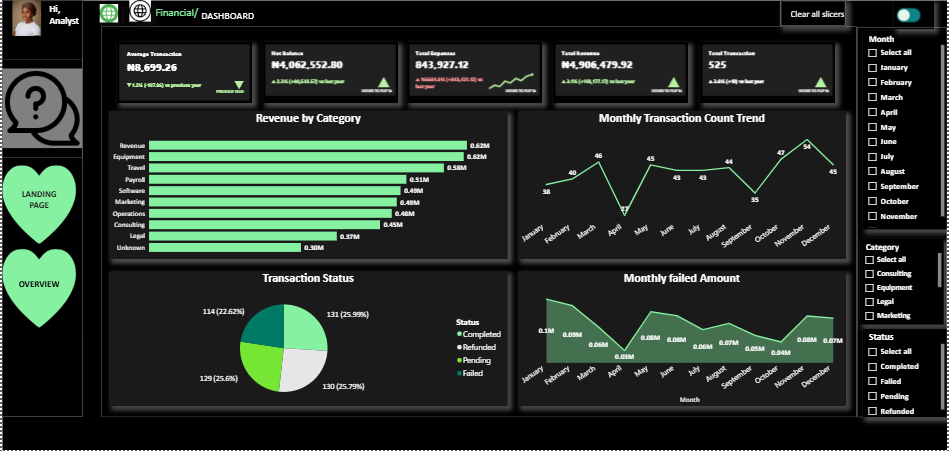

What the dashboard file says about the page in this screenshot:
{"tool":"powerbi","page":{"name":"OVERVIEW","canvas":[2100,1000],"ordinal":1},"visuals":[{"type":"shape","box":[0,0,2797.8,1486.7],"z":0},{"type":"shape","box":[220.4,57.1,1679.6,869.4],"z":1000},{"type":"shape","box":[0,0,179.6,926.5],"z":2000},{"type":"shape","box":[1900,59.2,200,867.3],"z":3000},{"type":"htmlContent443BE3AD55E043BF878BED274D3A6855","title":"Dark HTML Content","fields":{"content":["Html measures.HTML Average Transaction Card"]},"box":[255.1,93.9,300,134.7],"z":4000},{"type":"htmlContent443BE3AD55E043BF878BED274D3A6855","title":"Dark HTML Content","fields":{"content":["Html measures.HTML Net Balance Card"]},"box":[579.6,93.9,300,134.7],"z":5000},{"type":"htmlContent443BE3AD55E043BF878BED274D3A6855","title":"Dark HTML Content","fields":{"content":["Html measures.HTML Total Expenses Card"]},"box":[900,93.9,300,134.7],"z":6000},{"type":"htmlContent443BE3AD55E043BF878BED274D3A6855","title":"Dark HTML Content","fields":{"content":["Html measures.HTML Total Revenue Card"]},"box":[1224.5,93.9,300,134.7],"z":7000},{"type":"htmlContent443BE3AD55E043BF878BED274D3A6855","title":"Dark HTML Content","fields":{"content":["Html measures.HTML Total Transaction Card"]},"box":[1551,93.9,300,134.7],"z":8000},{"type":"barChart","title":"Revenue by Category ","fields":{"Category":["Financial.Category "],"Y":["Measure overview.Total Revenue"]},"box":[236.7,246.9,885.7,328.6],"z":9000},{"type":"lineChart","title":"Monthly Transaction Count Trend","fields":{"Category":["Date Table.Month"],"Y":["Measure overview.Total Transaction"]},"box":[1146.9,246.9,728.6,328.6],"z":10000},{"type":"pieChart","title":"Transaction Status","fields":{"Category":["Financial.Status"],"Y":["Measure overview.Total Transaction"]},"box":[236.7,602,885.7,300],"z":11000},{"type":"textbox","title":"Financial/","box":[334.7,14.3,114.3,28.6],"z":12000},{"type":"image","box":[210.2,8.2,53.1,40.8],"z":13000},{"type":"image","box":[280.8,0,53.8,48.1],"z":14000},{"type":"actionButton","title":"Dark Button","box":[1728.6,0,146.9,59.2],"z":15000},{"type":"textbox","title":"DASHBOARD","box":[438.8,20.4,140.8,28.6],"z":16000},{"type":"image","box":[0,0,110.2,79.6],"z":17000},{"type":"textbox","title":"Hi, Analyst","box":[100,6.1,79.6,57.1],"z":18000},{"type":"stackedAreaChart","title":"Monthly failed Amount","fields":{"Category":["Date Table.Month"],"Y":["Measure overview.Failed Amount"]},"box":[1146.9,602,728.6,300],"z":19000},{"type":"slicer","title":"Dark Slicer","fields":{"Values":["Date Table.Month"]},"box":[1914.3,69.4,185.7,440.8],"z":20000},{"type":"slicer","title":"Dark Slicer","fields":{"Values":["Financial.Category "]},"box":[1906.1,530.6,185.7,189.8],"z":21000},{"type":"slicer","title":"Dark Slicer","fields":{"Values":["Financial.Status"]},"box":[1914.3,730.6,185.7,195.9],"z":22000},{"type":"actionButton","title":"Search","box":[0,130.8,178.8,219.2],"z":23500},{"type":"actionButton","title":"Dark Image button ","box":[1981.4,0,88.4,65.1],"z":24500},{"type":"pageNavigator","box":[0,367.3,165.1,362.8],"z":39000}]}

Visuals, with their boxes on the page's 2100x1000 design canvas (x1, y1, x2, y2). These are canvas units, not pixel positions in the 951x451 screenshot, which may show the page scaled, cropped or inside an application window:
shape: <bbox>0, 0, 2798, 1487</bbox>
shape: <bbox>220, 57, 1900, 926</bbox>
shape: <bbox>0, 0, 180, 926</bbox>
shape: <bbox>1900, 59, 2100, 926</bbox>
"Dark HTML Content" htmlContent443BE3AD55E043BF878BED274D3A6855: <bbox>255, 94, 555, 229</bbox>
"Dark HTML Content" htmlContent443BE3AD55E043BF878BED274D3A6855: <bbox>580, 94, 880, 229</bbox>
"Dark HTML Content" htmlContent443BE3AD55E043BF878BED274D3A6855: <bbox>900, 94, 1200, 229</bbox>
"Dark HTML Content" htmlContent443BE3AD55E043BF878BED274D3A6855: <bbox>1224, 94, 1524, 229</bbox>
"Dark HTML Content" htmlContent443BE3AD55E043BF878BED274D3A6855: <bbox>1551, 94, 1851, 229</bbox>
"Revenue by Category " barChart: <bbox>237, 247, 1122, 576</bbox>
"Monthly Transaction Count Trend" lineChart: <bbox>1147, 247, 1876, 576</bbox>
"Transaction Status" pieChart: <bbox>237, 602, 1122, 902</bbox>
"Financial/" textbox: <bbox>335, 14, 449, 43</bbox>
image: <bbox>210, 8, 263, 49</bbox>
image: <bbox>281, 0, 335, 48</bbox>
"Dark Button" actionButton: <bbox>1729, 0, 1876, 59</bbox>
"DASHBOARD" textbox: <bbox>439, 20, 580, 49</bbox>
image: <bbox>0, 0, 110, 80</bbox>
"Hi, Analyst" textbox: <bbox>100, 6, 180, 63</bbox>
"Monthly failed Amount" stackedAreaChart: <bbox>1147, 602, 1876, 902</bbox>
"Dark Slicer" slicer: <bbox>1914, 69, 2100, 510</bbox>
"Dark Slicer" slicer: <bbox>1906, 531, 2092, 720</bbox>
"Dark Slicer" slicer: <bbox>1914, 731, 2100, 926</bbox>
"Search" actionButton: <bbox>0, 131, 179, 350</bbox>
"Dark Image button " actionButton: <bbox>1981, 0, 2070, 65</bbox>
pageNavigator: <bbox>0, 367, 165, 730</bbox>
